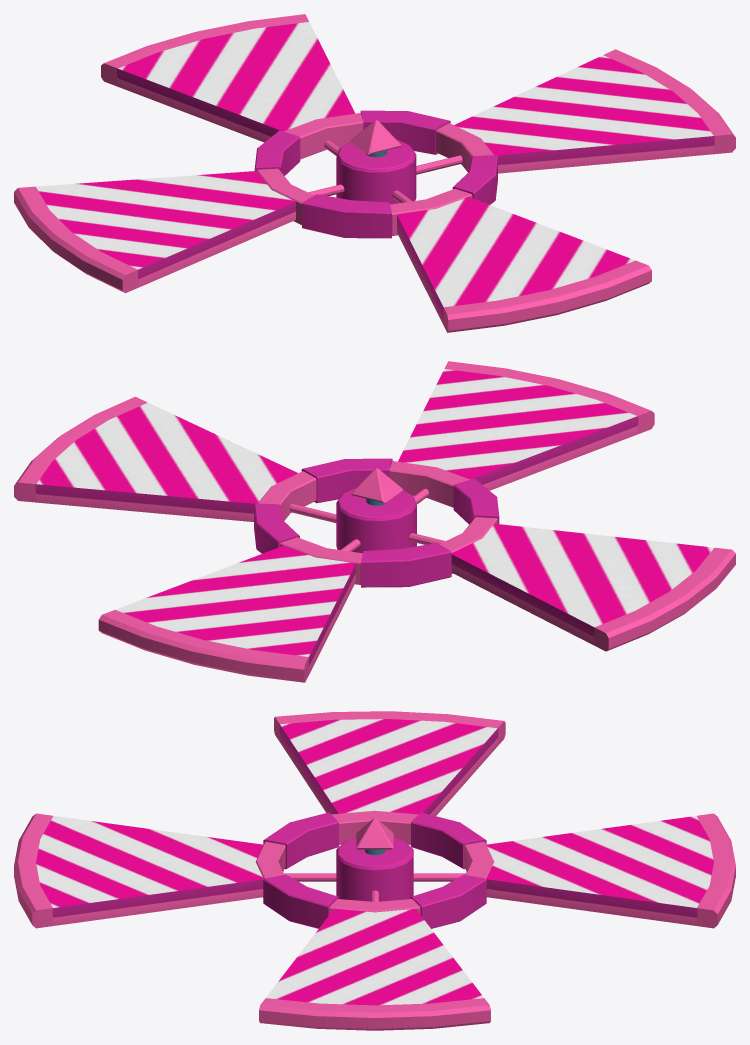
File: PLF0110026.fbx
3 views of the same model, one above another, from view 1: azimuth 30°, elevation 25°; view 2: azimuth 150°, elevation 25°; view 3: azimuth 270°, elevation 25° (orthographic). The views are drawn at different scales.
Parts seen in each view (by area): view 1: smPLF0110026; view 2: smPLF0110026; view 3: smPLF0110026.
Boxes of the visible parts, x1,y1,x2,y2 form: smPLF0110026: [14, 14, 735, 332]; smPLF0110026: [14, 361, 735, 682]; smPLF0110026: [14, 711, 735, 1030].
Bounding box in the file's own units: 637 × 75.43 × 638.
1 material, 1 textured.
